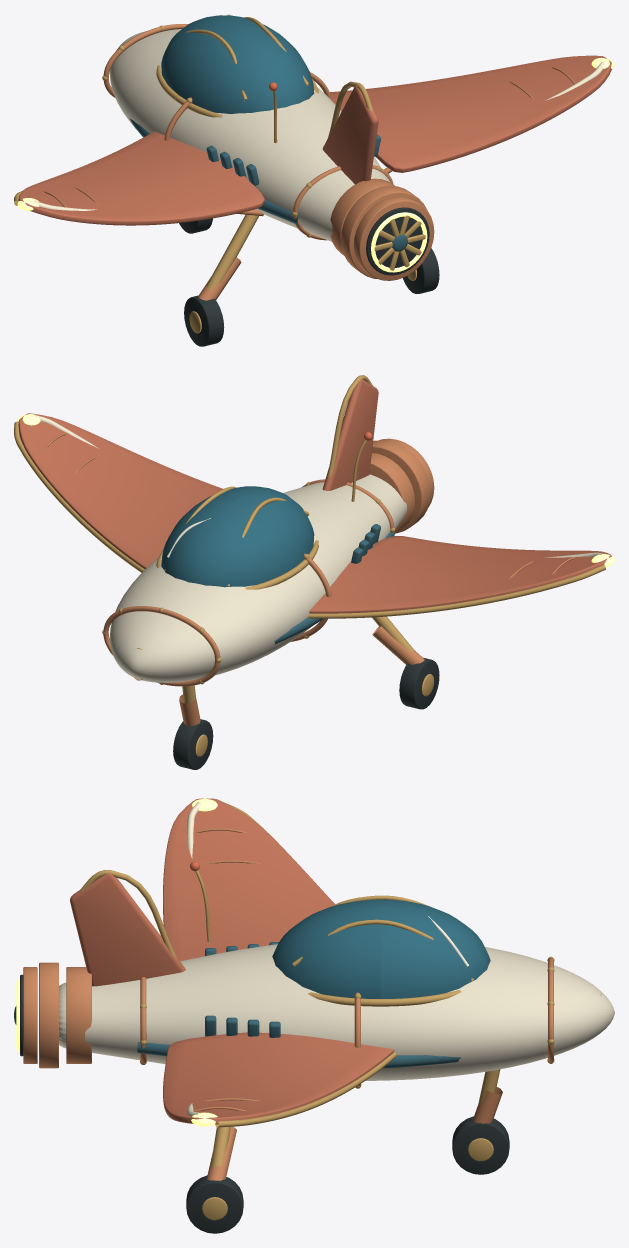
Rendered from ship.glb.
3 views of the same model, one above another, from view 1: azimuth 30°, elevation 25°; view 2: azimuth 150°, elevation 25°; view 3: azimuth 270°, elevation 25° (orthographic). The views are drawn at different scales.
Visible parts, largest first — view 1: SkySkiff_Terracotta wing lacquer, Sculpted enamel hull, Midnight blue canopy, SkySkiff_Hammered copper, SkySkiff_Brushed aged brass, SkySkiff_Charcoal rubber, SkySkiff_Hull blue inlay, SkySkiff_Lantern amber light, SkySkiff_Warm linen stitching; view 2: SkySkiff_Terracotta wing lacquer, Sculpted enamel hull, Midnight blue canopy, SkySkiff_Hammered copper, SkySkiff_Brushed aged brass, SkySkiff_Charcoal rubber, SkySkiff_Hull blue inlay; view 3: SkySkiff_Terracotta wing lacquer, Sculpted enamel hull, Midnight blue canopy, SkySkiff_Hammered copper, SkySkiff_Brushed aged brass, SkySkiff_Charcoal rubber, SkySkiff_Hull blue inlay, SkySkiff_Lantern amber light.
Boxes of the visible parts, <box> form: SkySkiff_Terracotta wing lacquer: <box>18,55,611,225</box>; Sculpted enamel hull: <box>110,29,390,241</box>; Midnight blue canopy: <box>161,15,314,113</box>; SkySkiff_Hammered copper: <box>43,24,575,300</box>; SkySkiff_Brushed aged brass: <box>14,17,425,333</box>; SkySkiff_Charcoal rubber: <box>179,207,439,346</box>; SkySkiff_Hull blue inlay: <box>129,118,407,251</box>; SkySkiff_Lantern amber light: <box>17,57,614,272</box>; SkySkiff_Warm linen stitching: <box>34,62,604,210</box>; SkySkiff_Terracotta wing lacquer: <box>18,379,611,613</box>; Sculpted enamel hull: <box>110,474,406,682</box>; Midnight blue canopy: <box>161,486,314,587</box>; SkySkiff_Hammered copper: <box>43,432,575,726</box>; SkySkiff_Brushed aged brass: <box>14,375,605,756</box>; SkySkiff_Charcoal rubber: <box>173,657,439,769</box>; SkySkiff_Hull blue inlay: <box>274,524,395,644</box>; SkySkiff_Terracotta wing lacquer: <box>70,798,394,1124</box>; Sculpted enamel hull: <box>59,944,614,1080</box>; Midnight blue canopy: <box>272,899,490,998</box>; SkySkiff_Hammered copper: <box>23,828,553,1180</box>; SkySkiff_Brushed aged brass: <box>79,802,601,1220</box>; SkySkiff_Charcoal rubber: <box>20,974,509,1233</box>; SkySkiff_Hull blue inlay: <box>14,942,461,1068</box>; SkySkiff_Lantern amber light: <box>16,798,217,1126</box>.
Bounding box in the file's own units: 5.38 × 2.32 × 4.2.
